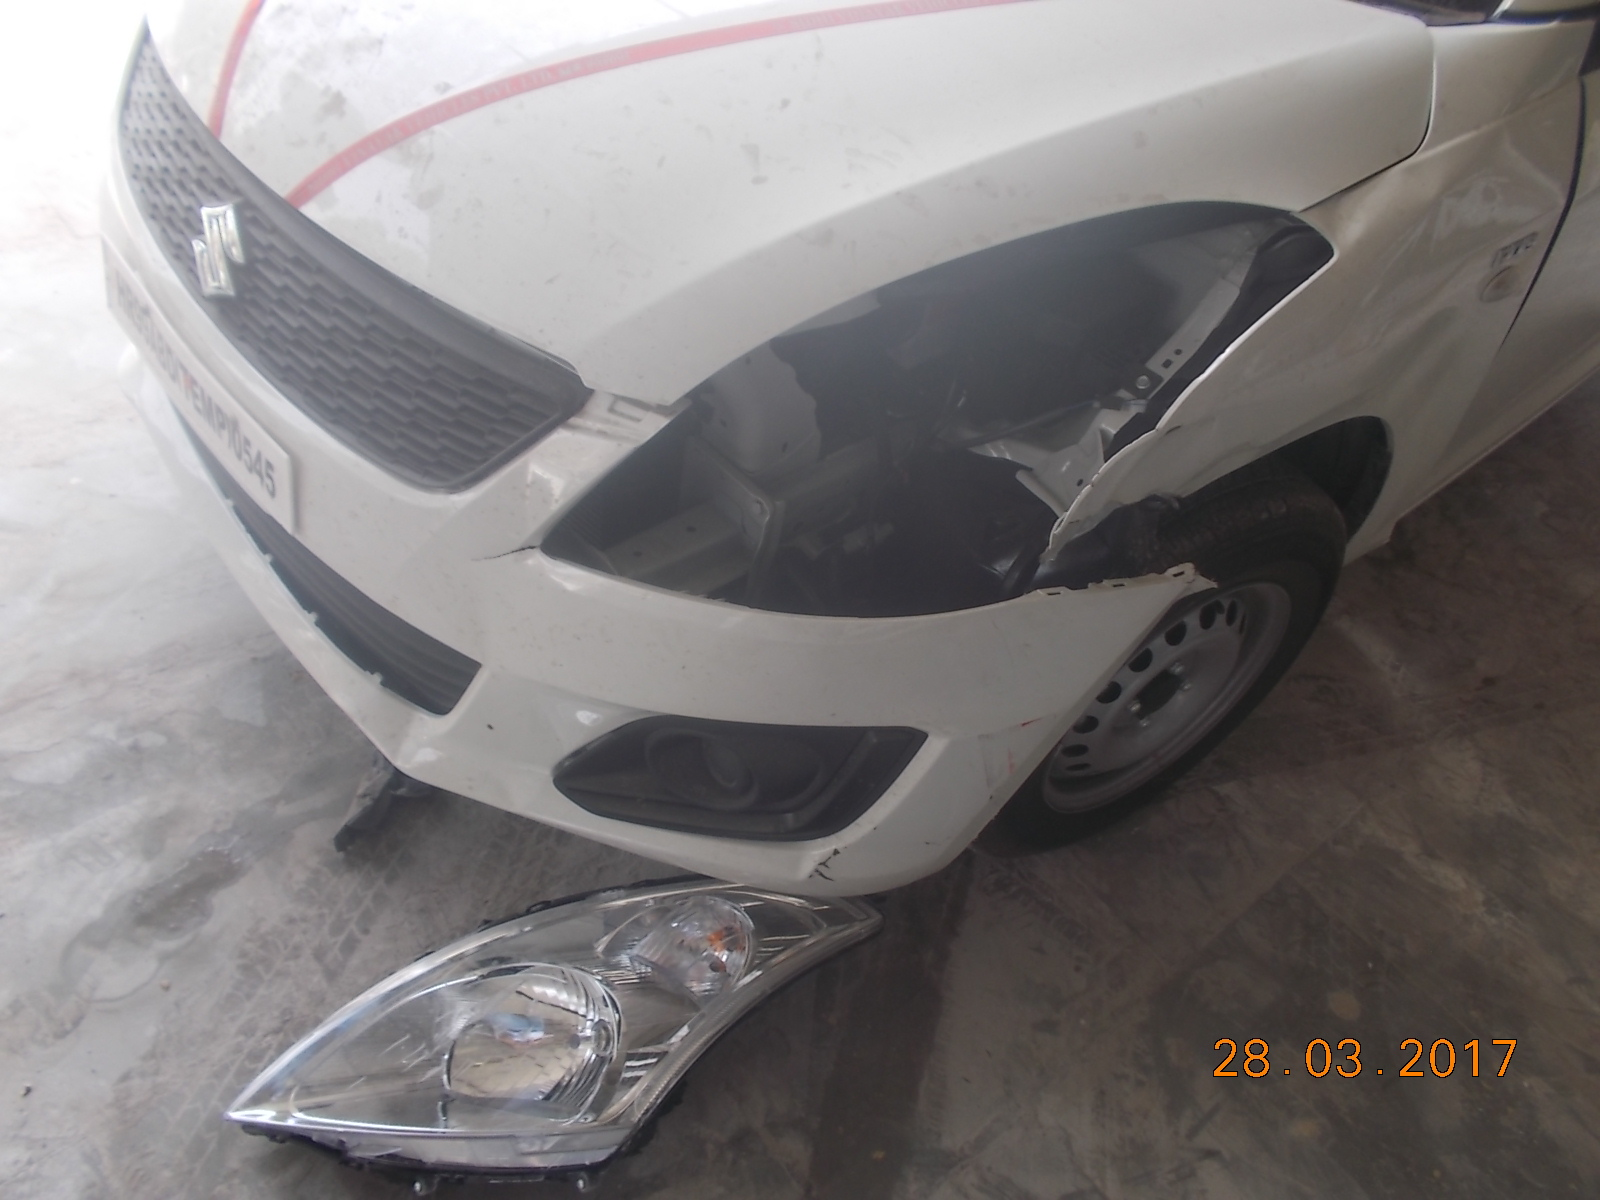Dislocation: (993, 473, 1212, 650)
